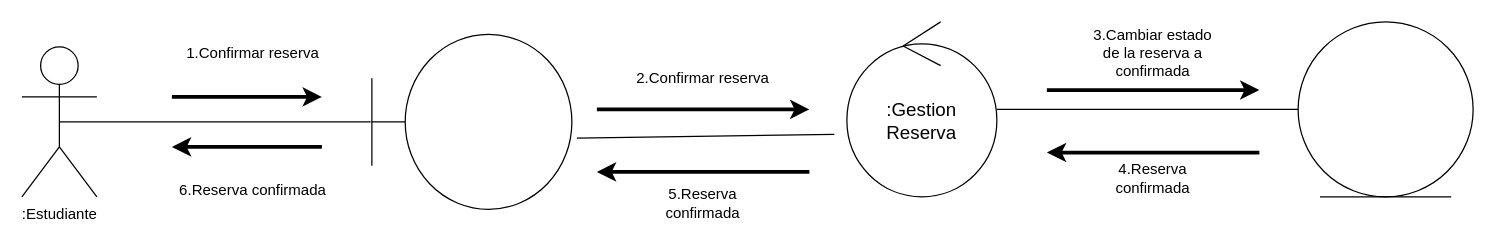
Image size: 1495x245. Some labels were removed from this diagram. Here are the shapes that lost their labels. From the top down, the centre of each, then its label:
point 471,121: :PantallaEvento
point 1385,109: :Reserva
